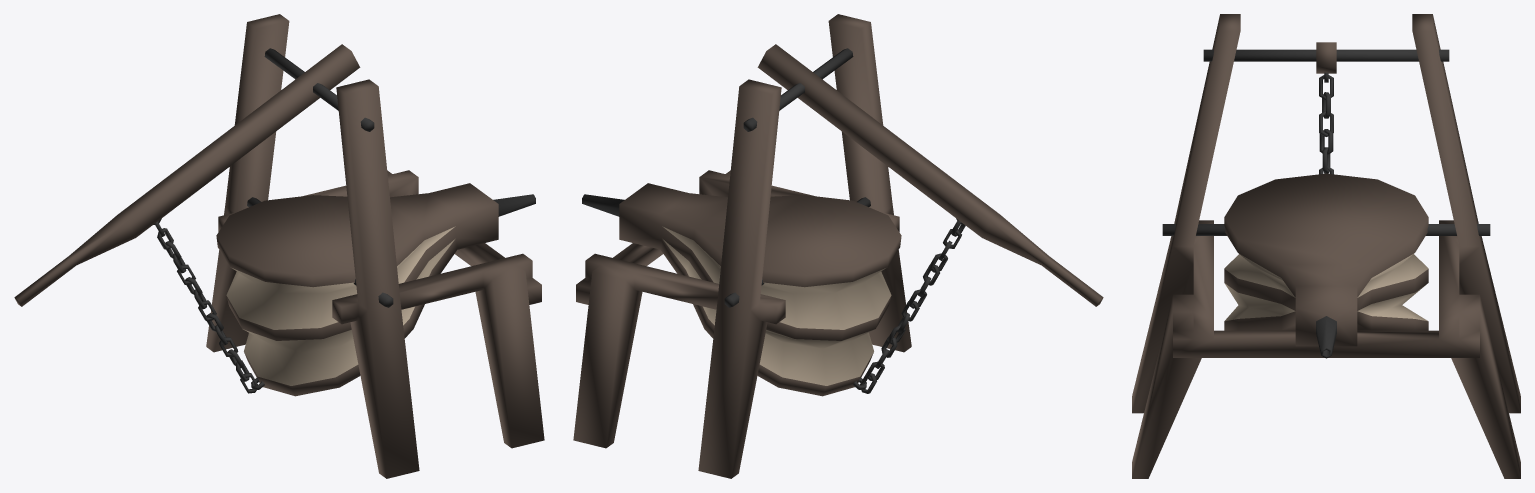
File: bellows.glb
The picture shows the model from 3 angles, left to right: view 1: azimuth 30°, elevation 25°; view 2: azimuth 150°, elevation 25°; view 3: azimuth 270°, elevation 25°; orthographic projection. The views are drawn at different scales.
Visible parts, largest first — view 1: bellows; view 2: bellows; view 3: bellows.
Boxes of the visible parts, x1,y1,x2,y2 form: bellows: (14, 14, 544, 478); bellows: (573, 14, 1103, 478); bellows: (1132, 14, 1520, 478).
Size of the model in its own units: 2.67 by 1.75 by 1.62.
1 material, 1 textured.
